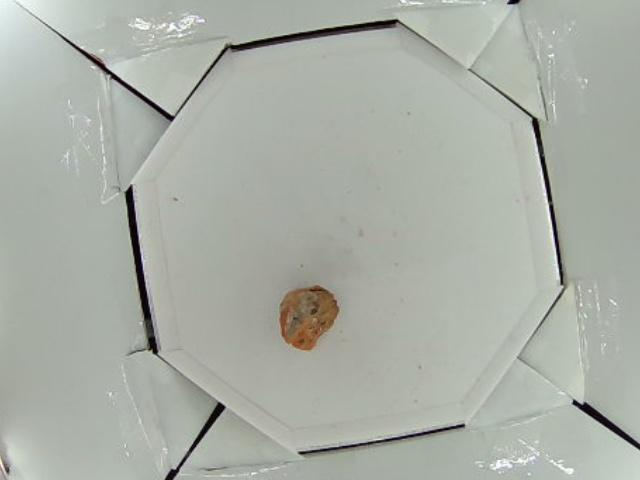Brisk: (278, 285, 338, 351)
